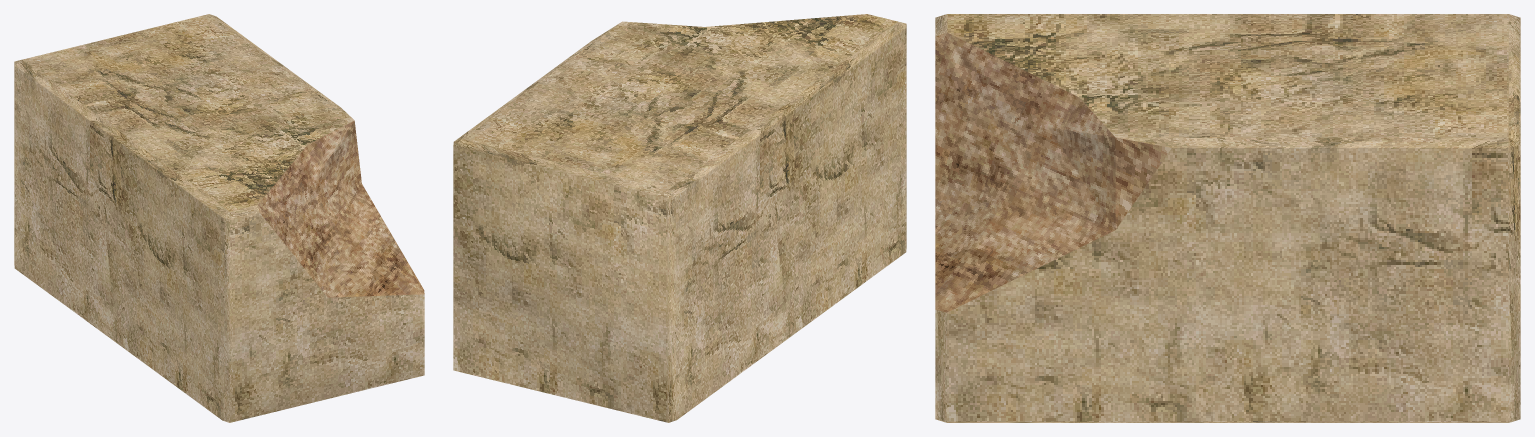
The model's file is stage-ruin-p2-485.glb.
3 renders of one model, left to right at view 1: azimuth 30°, elevation 25°; view 2: azimuth 150°, elevation 25°; view 3: azimuth 270°, elevation 25°, orthographic. The views are drawn at different scales.
Size of the model in its own units: 4.25 by 4.25 by 7.9.
2 materials, 2 textured.
